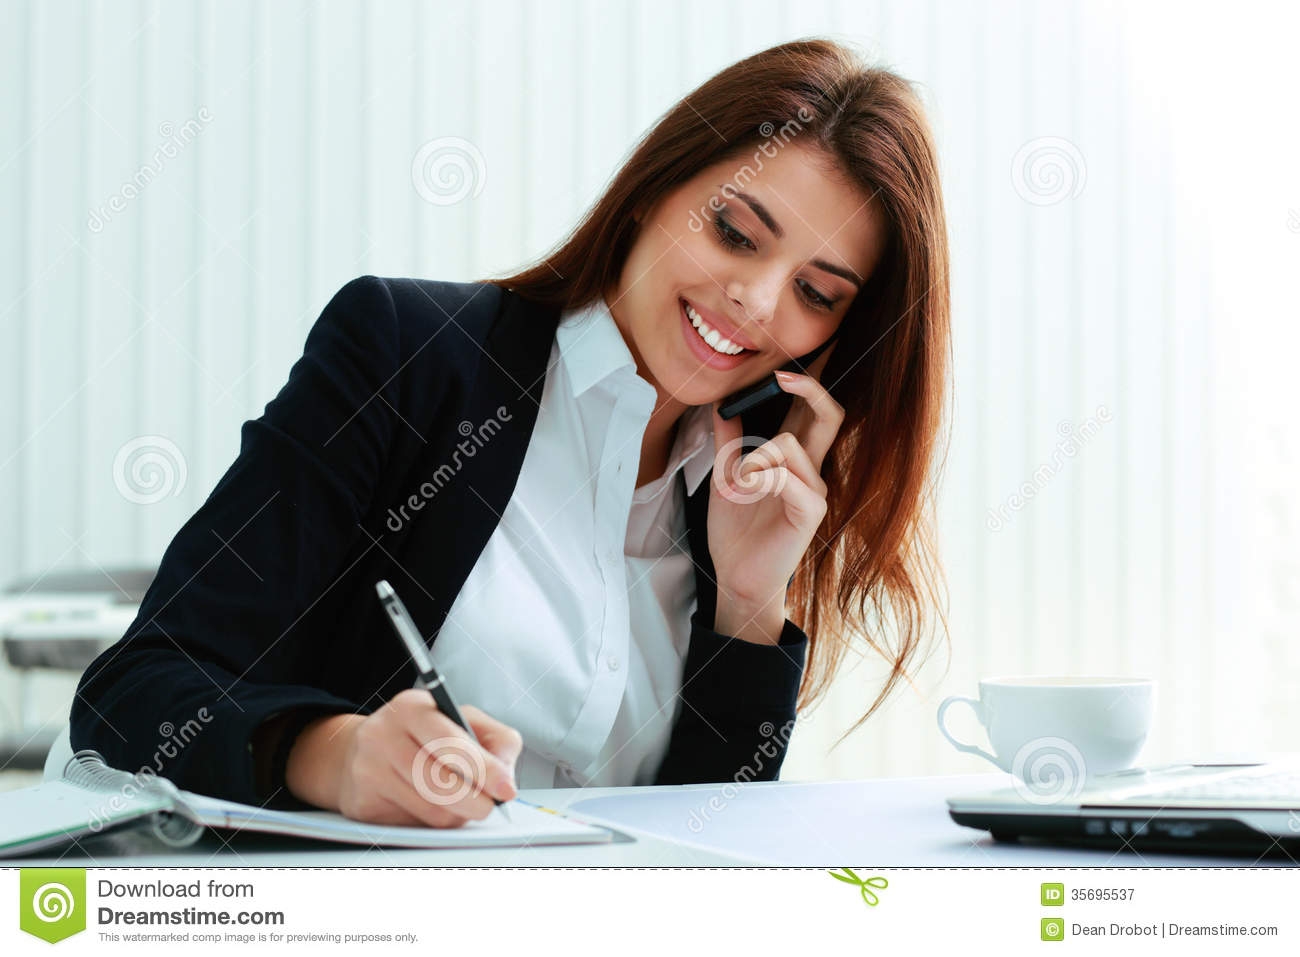talk: (661, 183, 870, 609)
